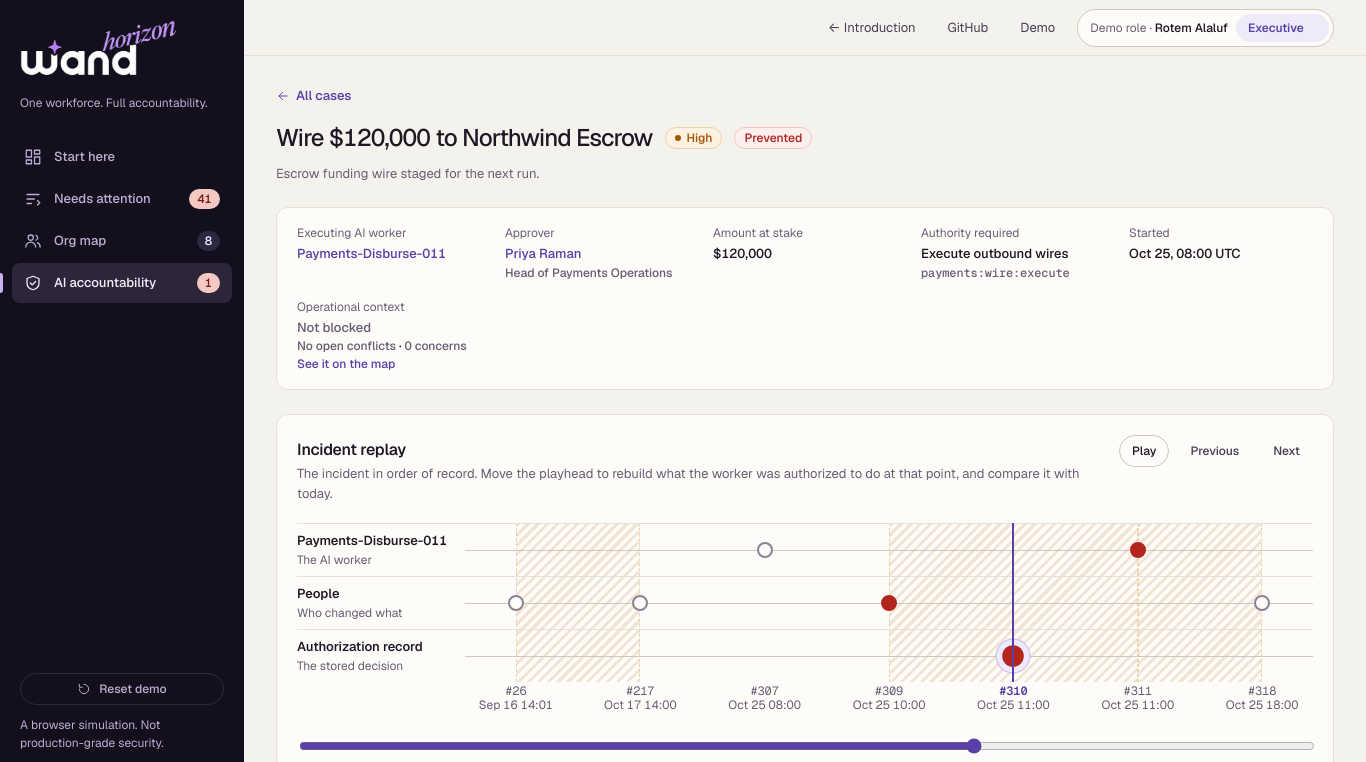
Test: Incident replay › next and previous step through the events and the markers are real buttons
The width and height of the screenshot is (1366, 762).
Expected: the slider named "Replay position" is shown, [299,738,1315,754]
Click the button "Next": (1287, 451) [1260,435,1313,467]
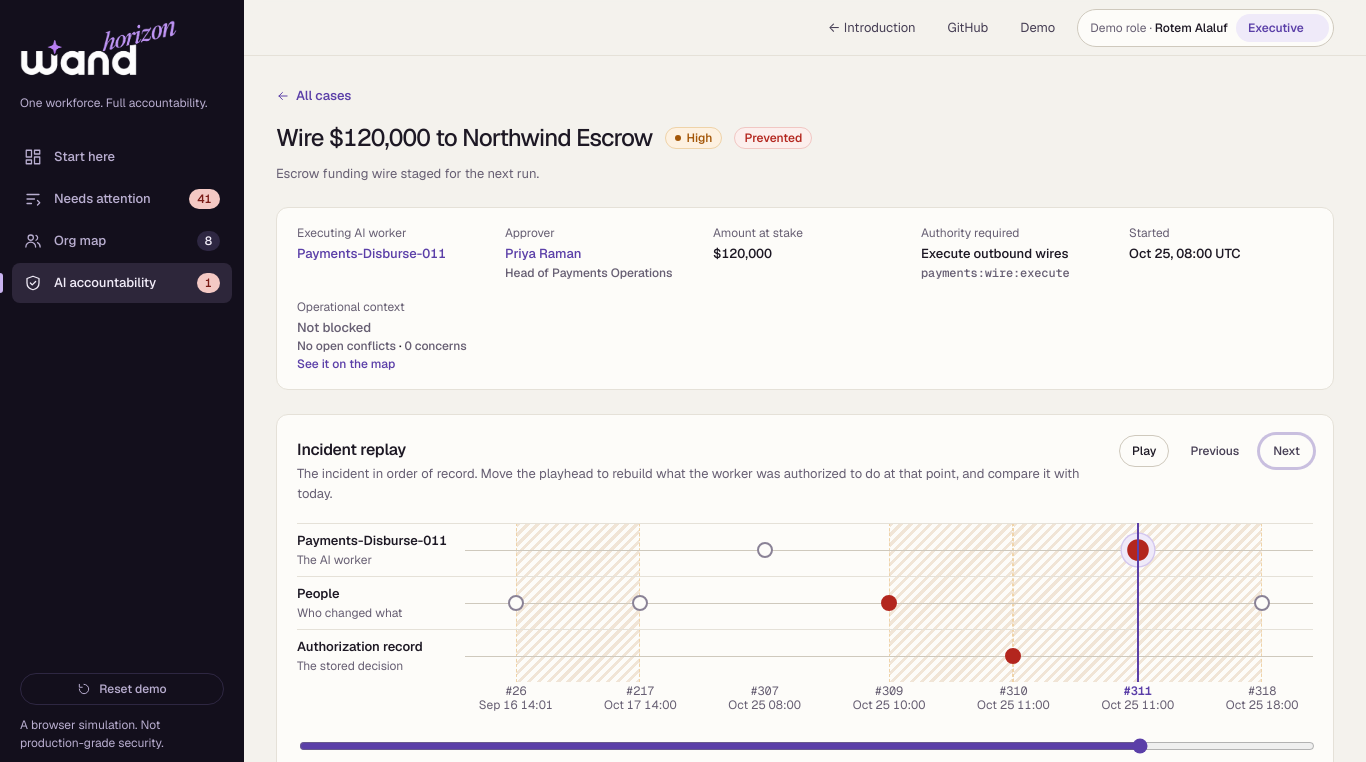
Click the button named "Event #309: Permission revoked": (889, 603) [881,595,897,611]
(page scrolled)
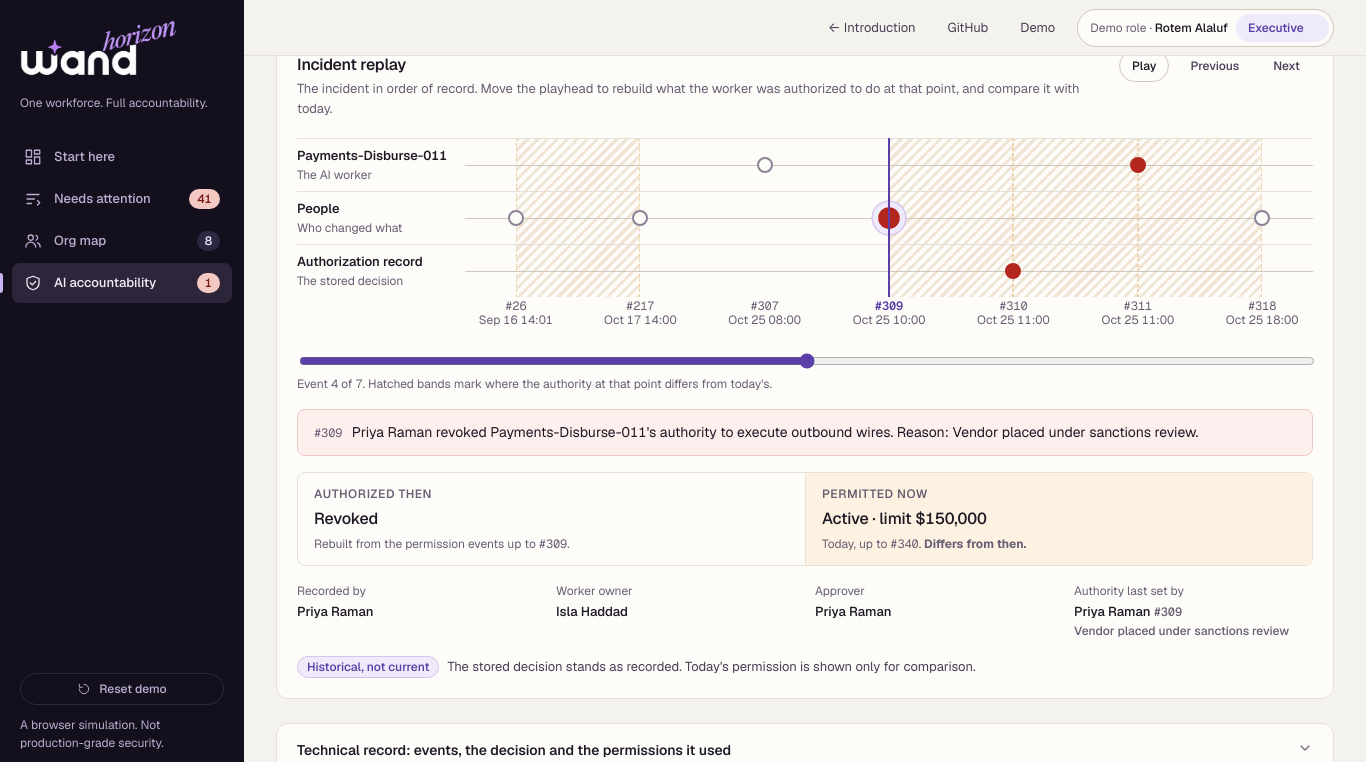
Expected: the text "Event 4 of 7" is shown, [297,376,772,392]
